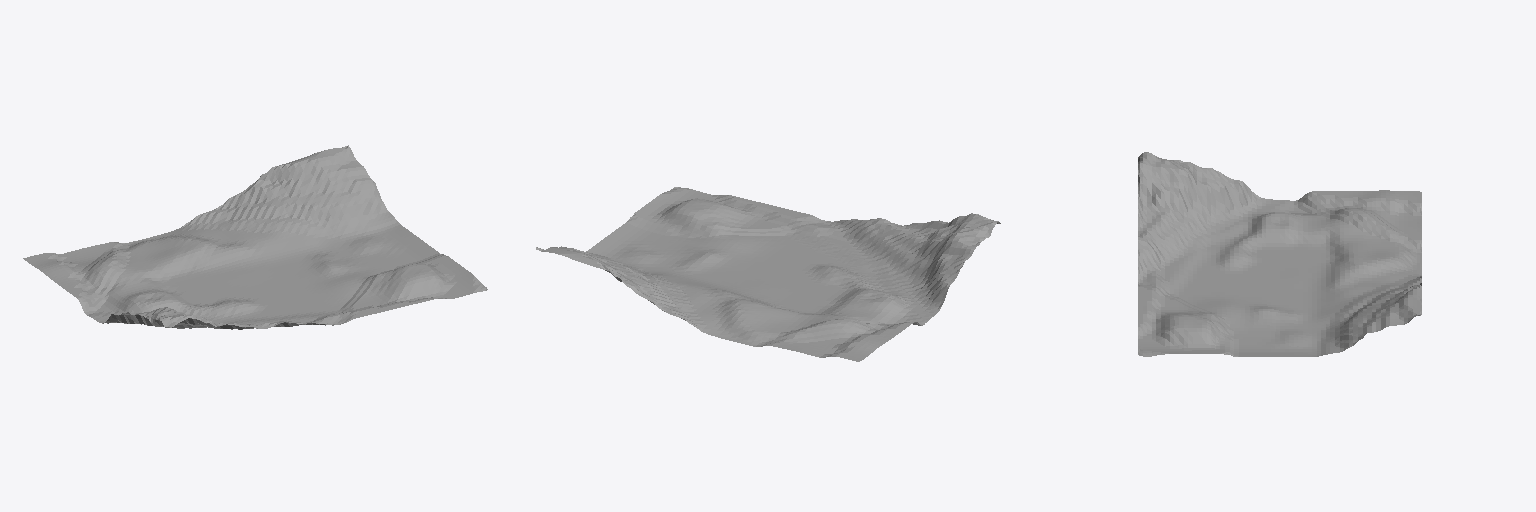
The model's file is terrain.obj.
3 views of the same model, side by side, from view 1: azimuth 30°, elevation 25°; view 2: azimuth 150°, elevation 25°; view 3: azimuth 270°, elevation 25° (orthographic).
Parts seen in each view (by area): view 1: Plane; view 2: Plane; view 3: Plane.
Boxes of the visible parts, x1=… form: Plane: x1=23, y1=145, x2=487, y2=329; Plane: x1=536, y1=187, x2=1000, y2=361; Plane: x1=1138, y1=152, x2=1421, y2=356.
Size of the model in its own units: 745 by 109 by 563.